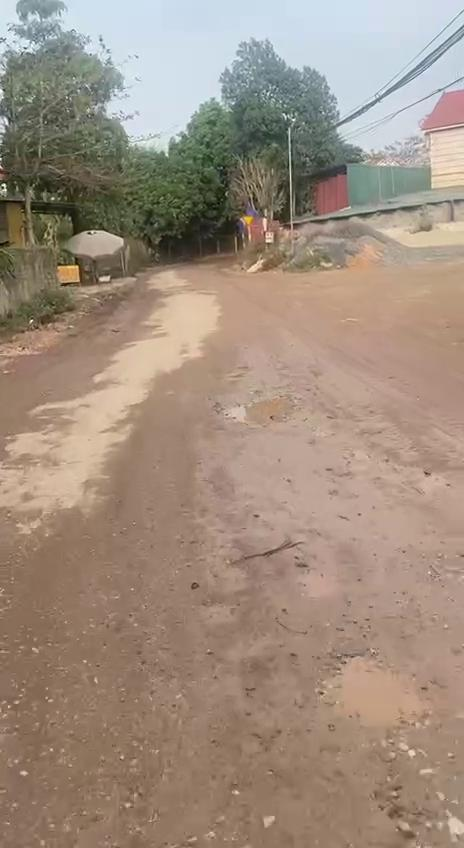pothole: (322, 648, 434, 747), (219, 385, 305, 431)
